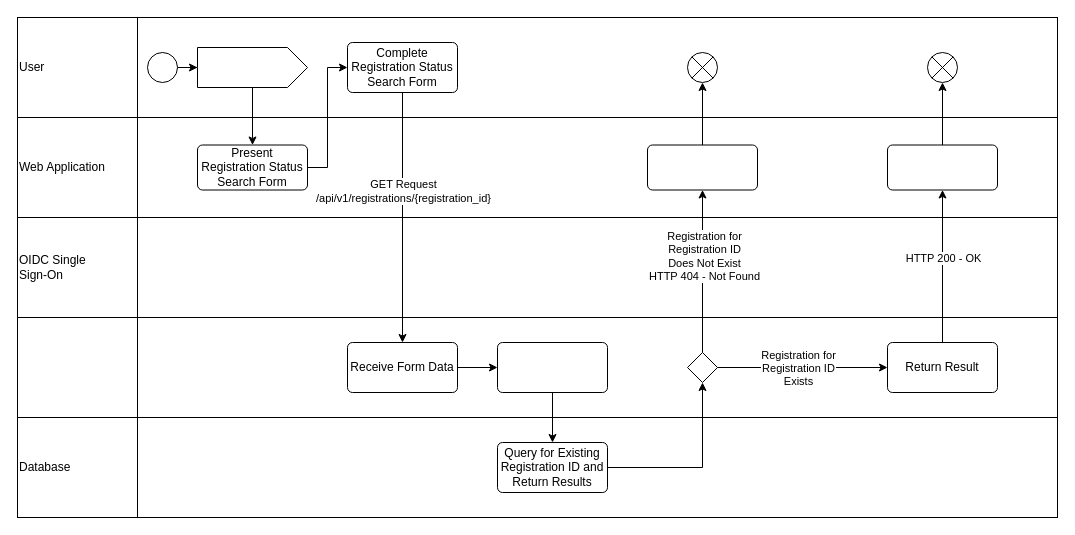
Some shapes in this 1075 by 535 pixel diagram are drawn without their labels. Each missing label, with the box of its shape:
Handle Not Found & Present to User: (646, 144, 758, 190)
Handle Successful Result & Present to User: (886, 144, 998, 190)
Micro-service Application: (16, 316, 1058, 418)
Open Web Page: (196, 46, 308, 88)
Validate Data & Check for Existing Registration ID: (496, 342, 608, 392)
